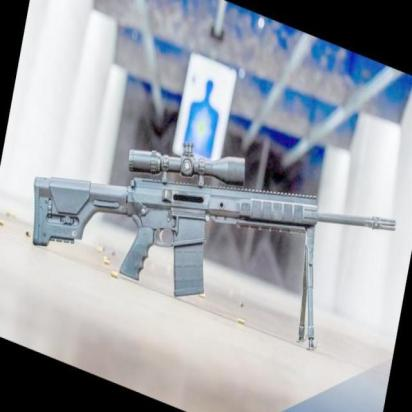Gun: (23, 138, 404, 306)
